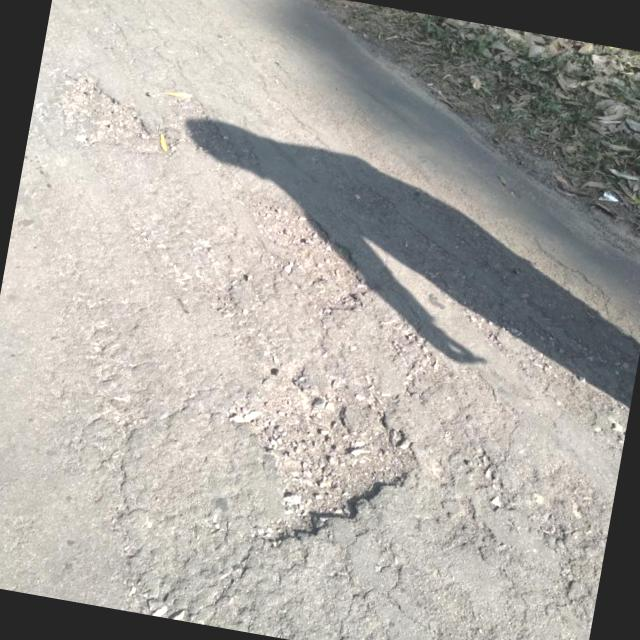Lubang: (227, 367, 414, 536), (246, 195, 367, 313), (60, 74, 153, 150)
